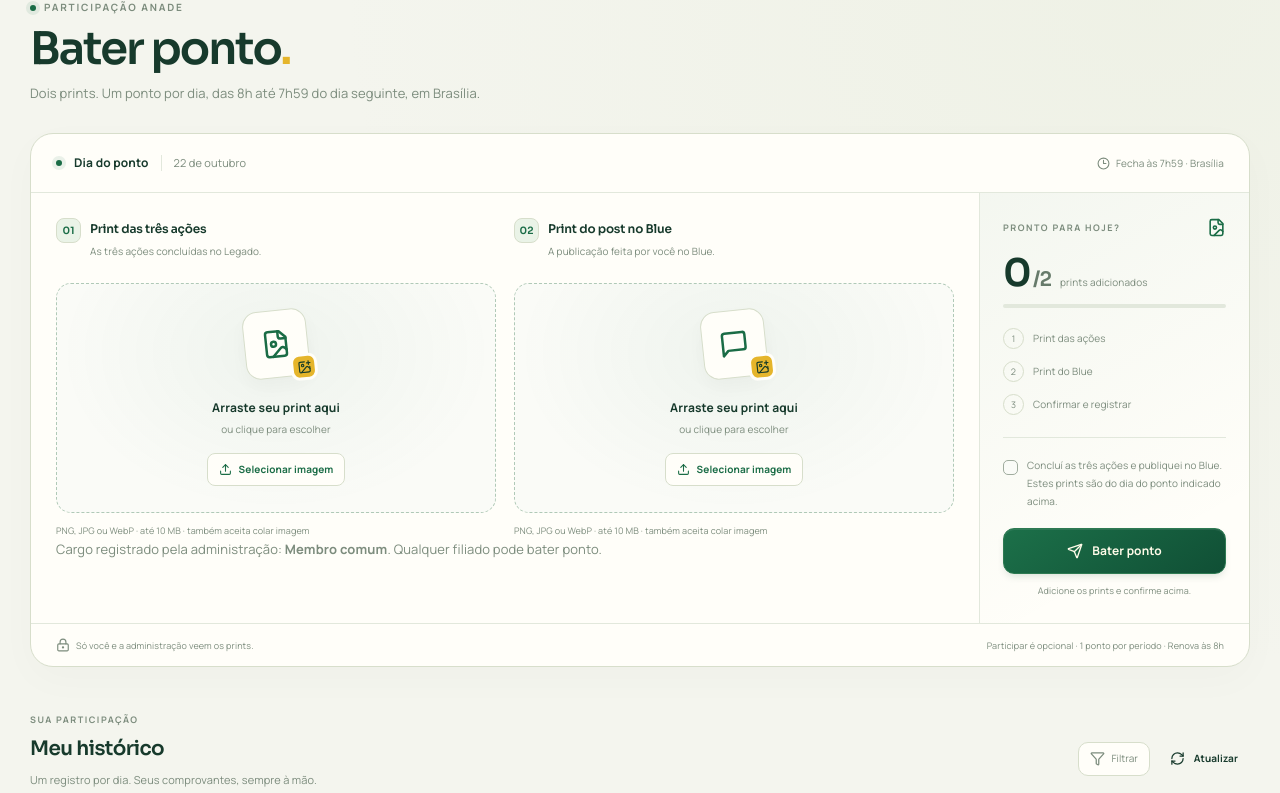
página de ponto › não envia sem os dois prints e sem confirmar as atividades
Click the button "Bater ponto": [1114, 551] box [1003, 528, 1226, 574]
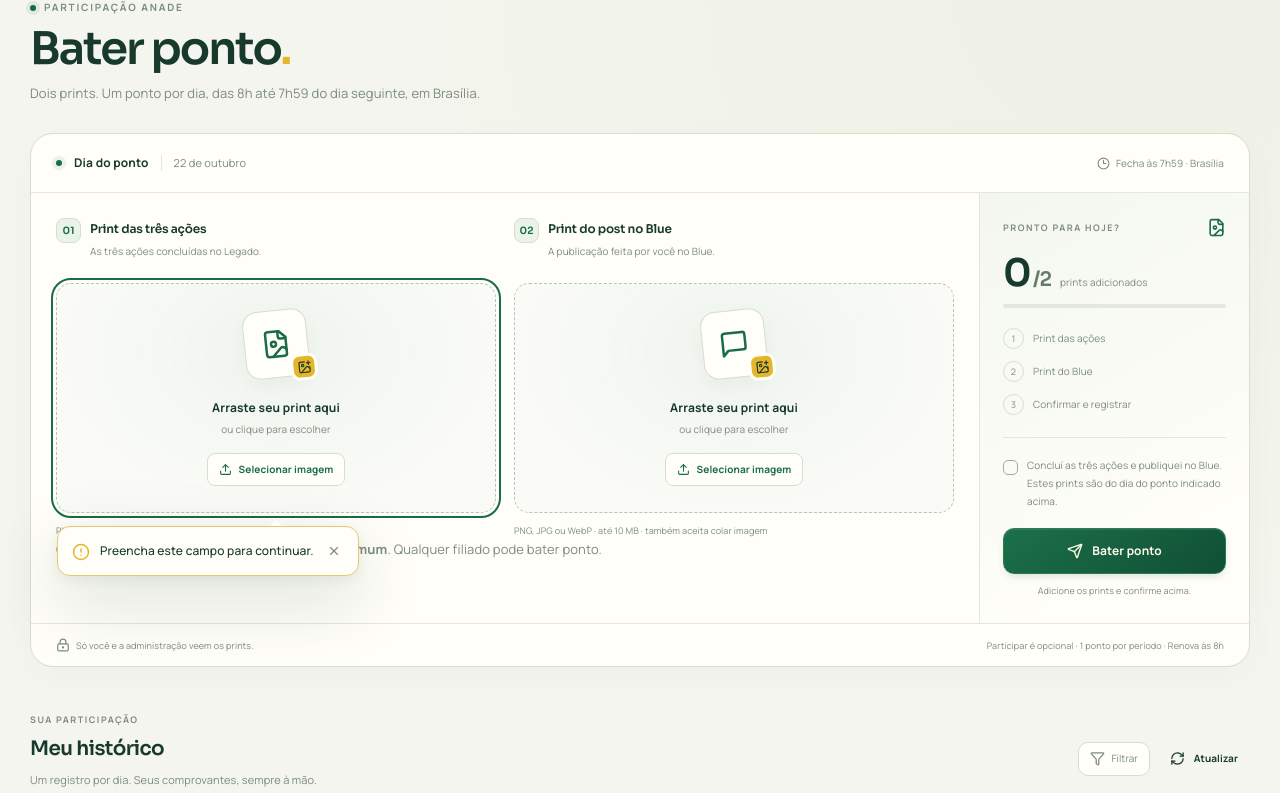
expect the message "Preencha este campo para continuar." is shown: met, box [100, 541, 314, 561]
